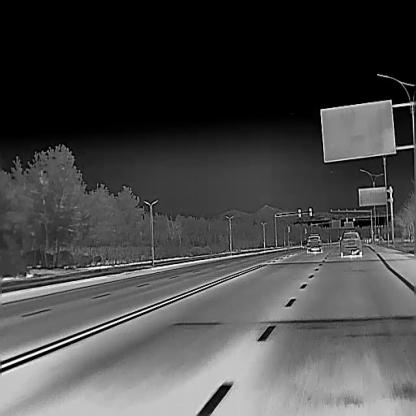car: (337, 232, 362, 256), (306, 233, 322, 254), (300, 238, 306, 250)
